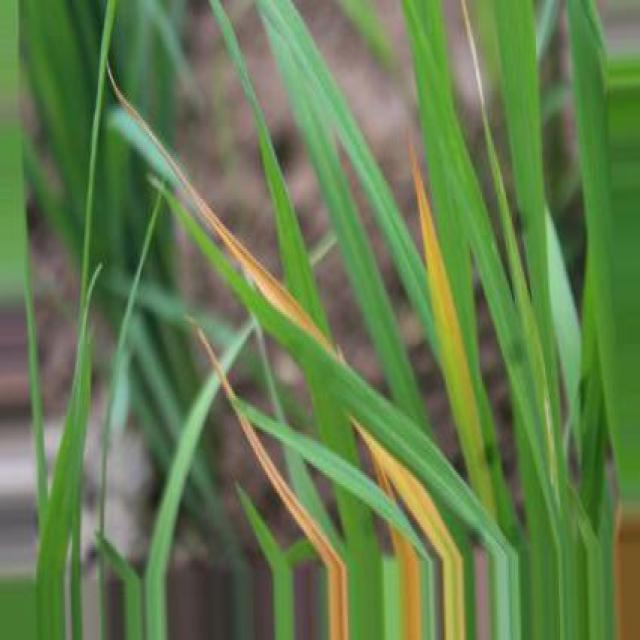Rice Tungro: (110, 76, 341, 359), (222, 375, 348, 639), (412, 154, 495, 517), (353, 420, 465, 639)
